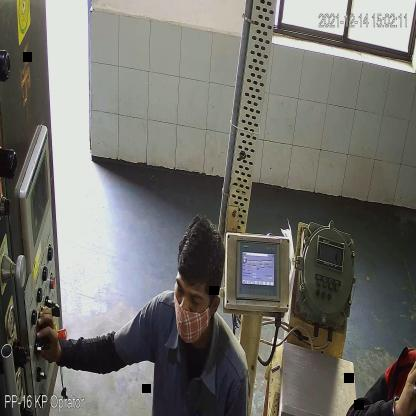no_goggles: (176, 278, 207, 310)
